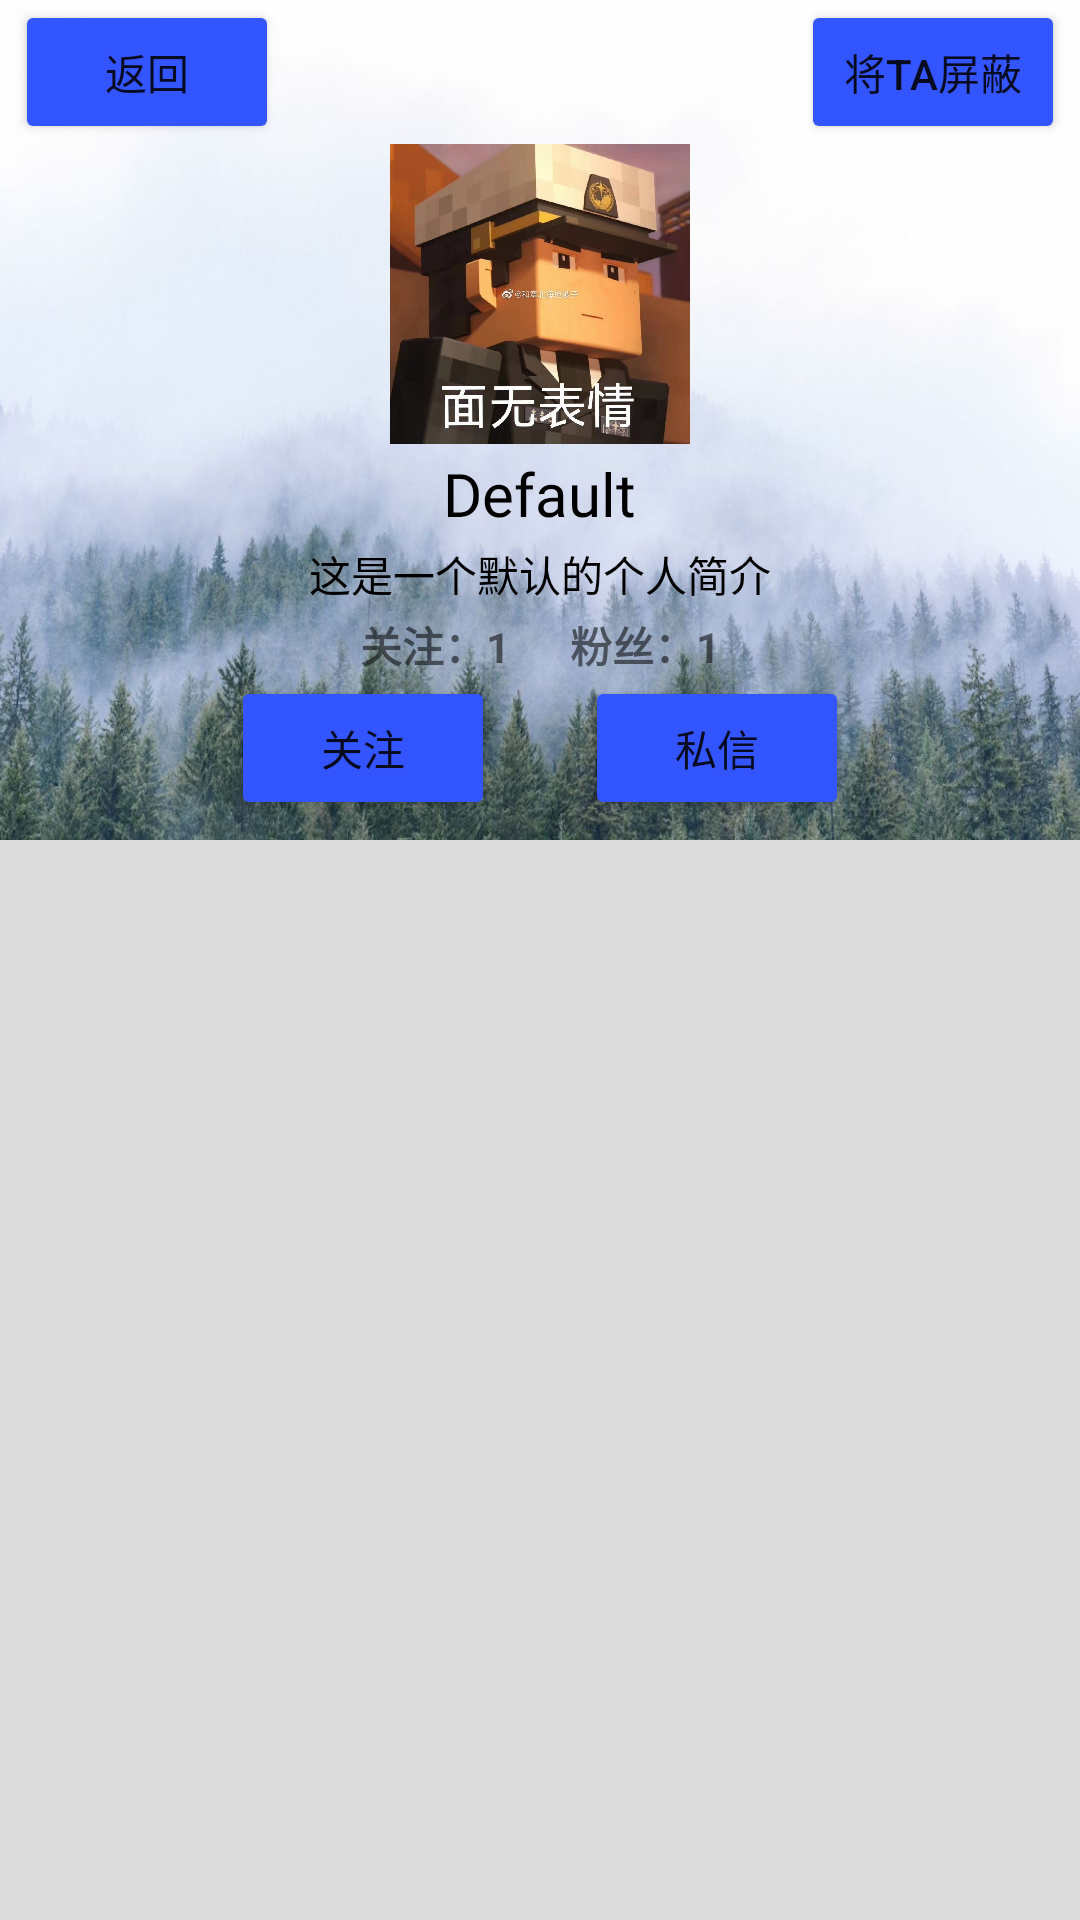

Icon bounding boxes for this 1080px x 1920px phone screenshot, format (x1, y1, x2, y2):
touxiang: (390, 144, 690, 444)
